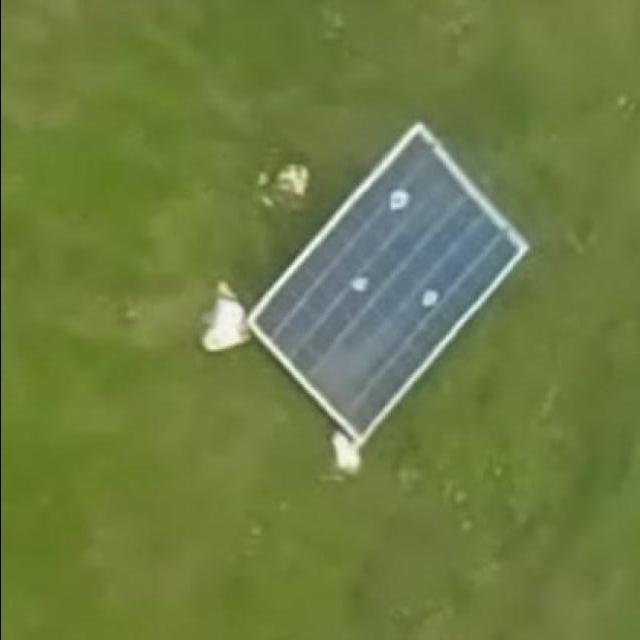soiled: (242, 116, 530, 450)
